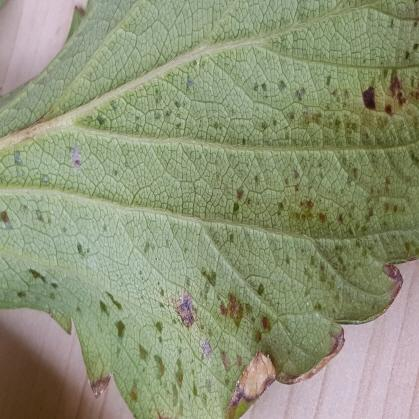Angular Leafspot: (0, 0, 418, 418)
